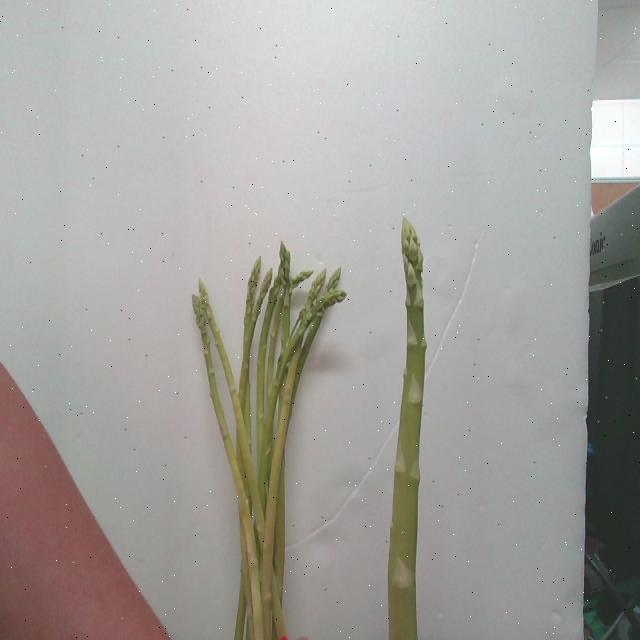aspargus: (387, 218, 427, 640)
